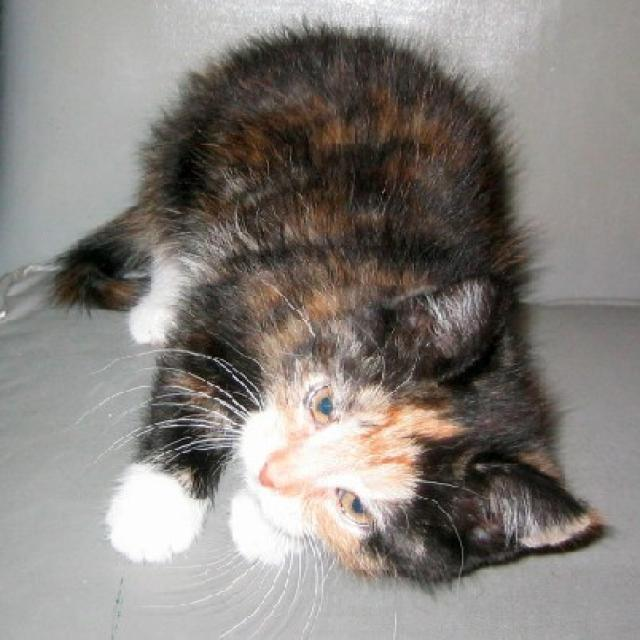Cats: (46, 16, 607, 602)
